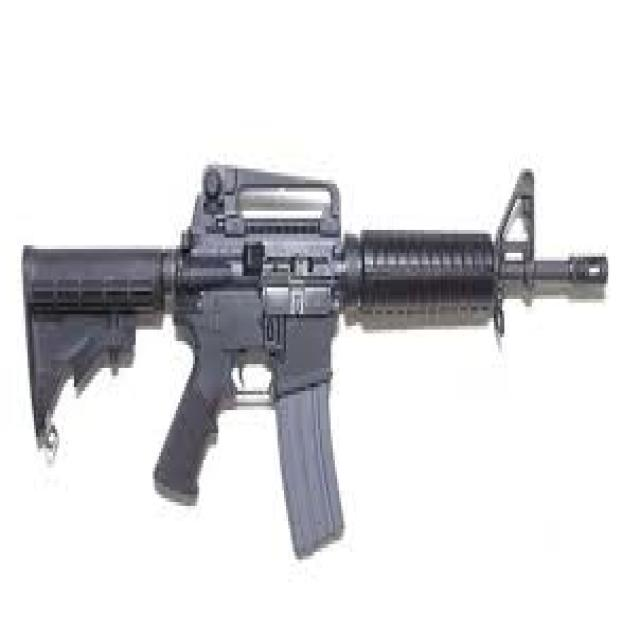rifle: (14, 141, 612, 569)
